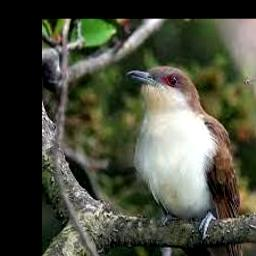Cuckoo: (126, 66, 252, 256)
